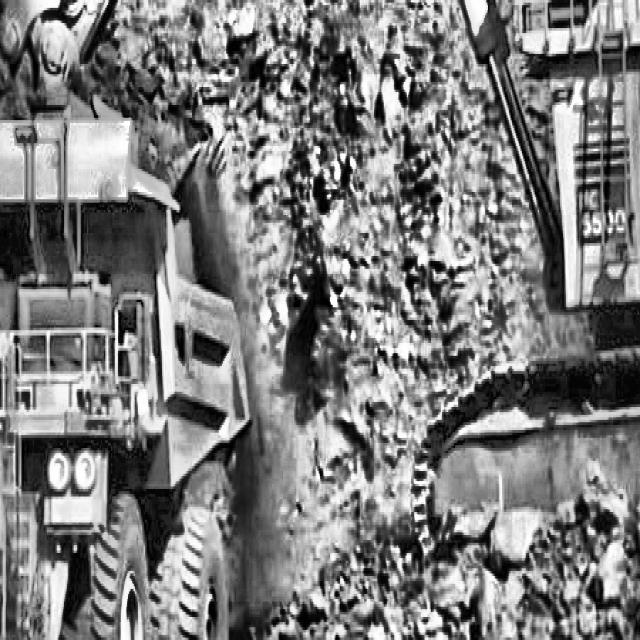dump_truck: (0, 84, 284, 639)
excavator: (0, 0, 640, 556)
